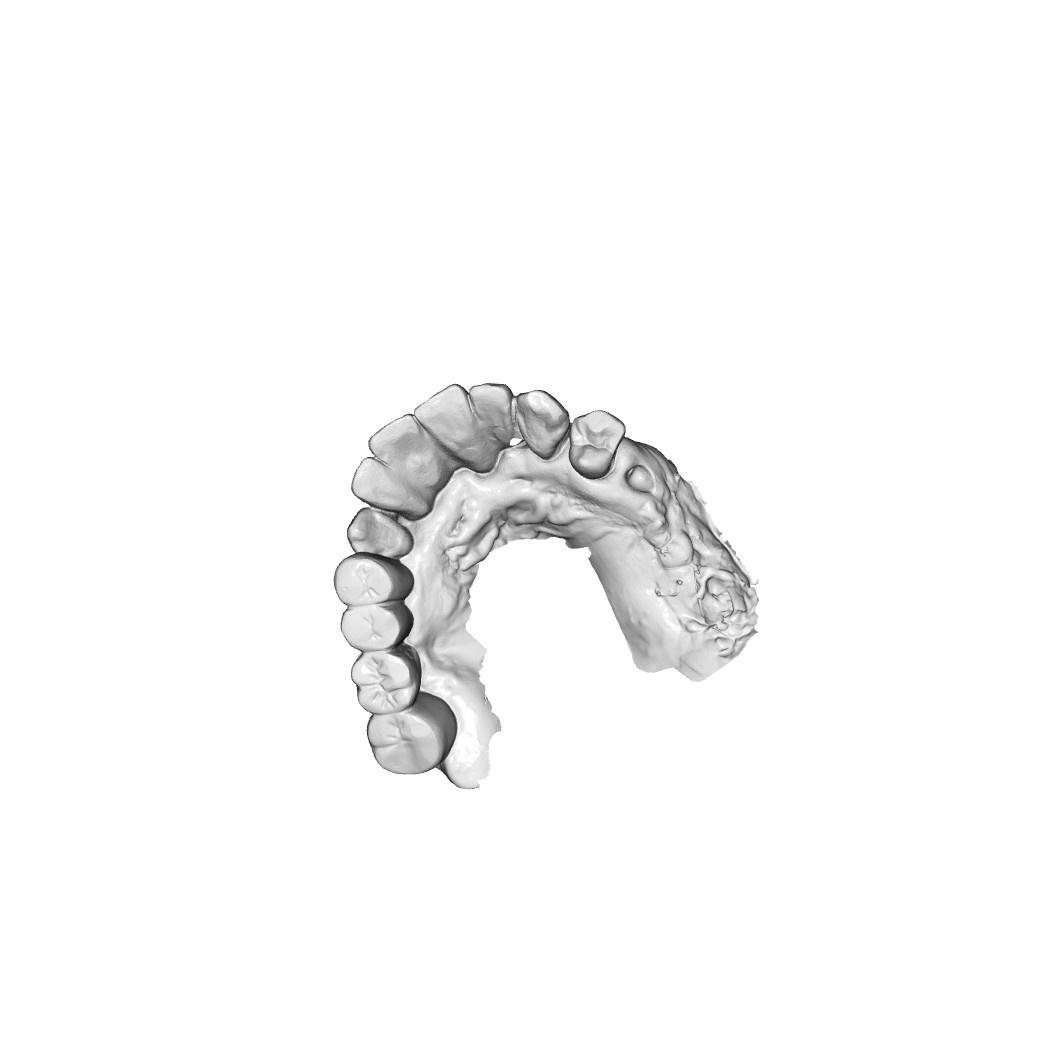canine: (349, 506, 409, 556), (519, 382, 561, 451)
incisor: (420, 384, 484, 457), (367, 413, 438, 478), (349, 458, 421, 520), (472, 381, 521, 440)
molar: (368, 712, 443, 776), (352, 649, 421, 712)
premolar: (567, 406, 621, 484), (338, 603, 402, 650), (336, 555, 395, 602)
